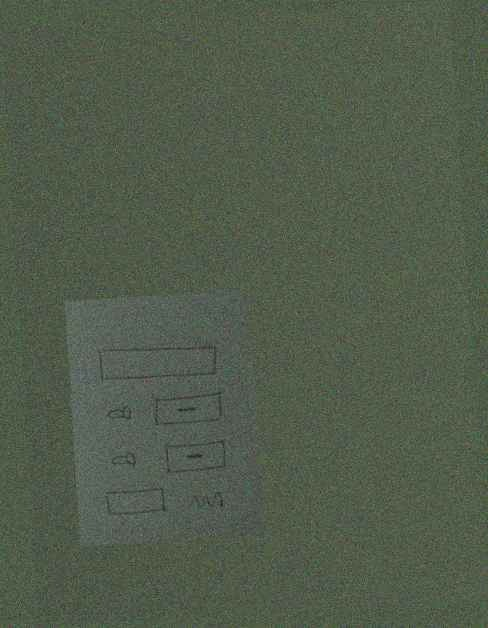button: (149, 390, 226, 429), (160, 439, 229, 476)
switch: (102, 401, 135, 425), (109, 449, 140, 471)
text: (181, 488, 227, 515)
text_input: (94, 338, 221, 386), (102, 486, 170, 518)
